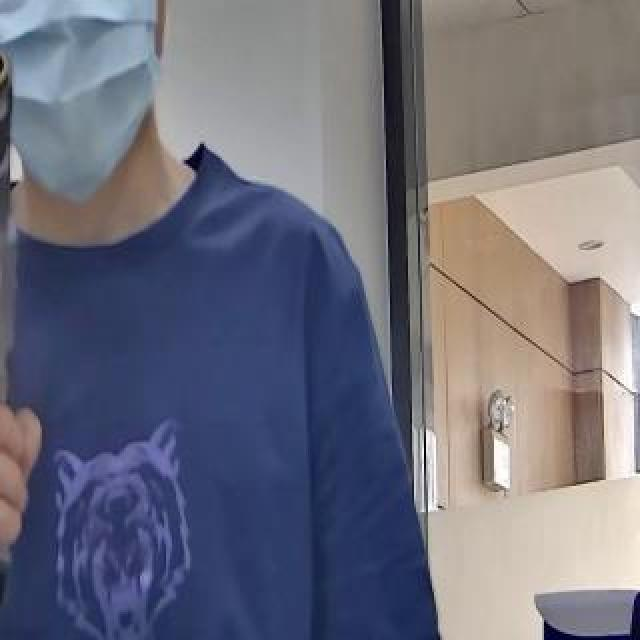Guns: (0, 24, 56, 638)
